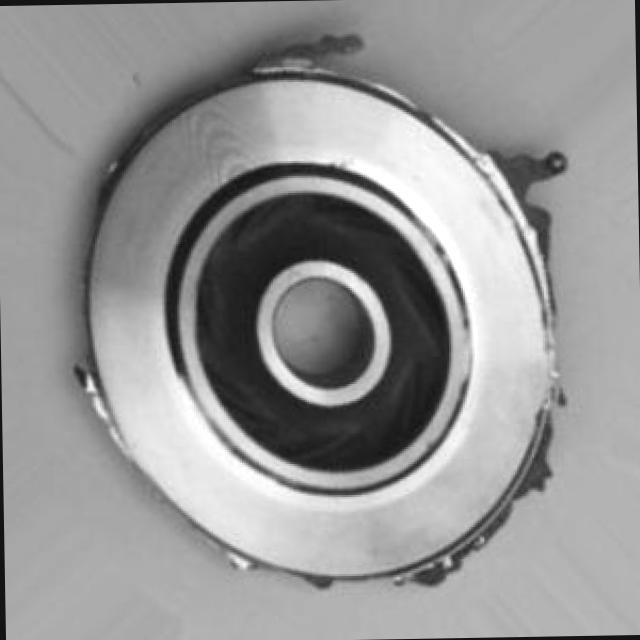Defect: (488, 134, 578, 210)
